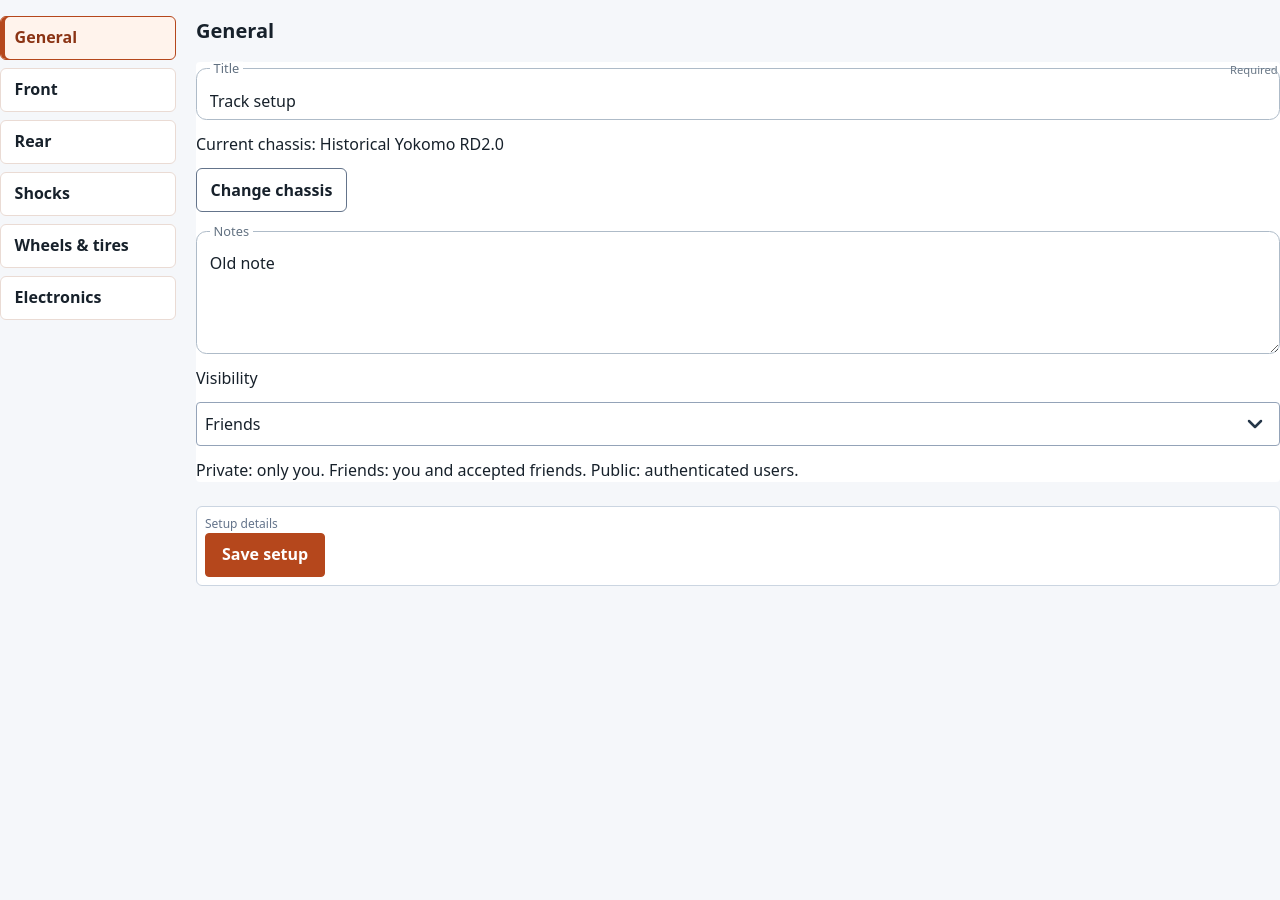
Test: validates unseen optional values, reveals the editor, and focuses after registration
This screenshot has width=1280, height=900.
Click the button "Save setup".
click(265, 555)  # box [205,533,325,577]
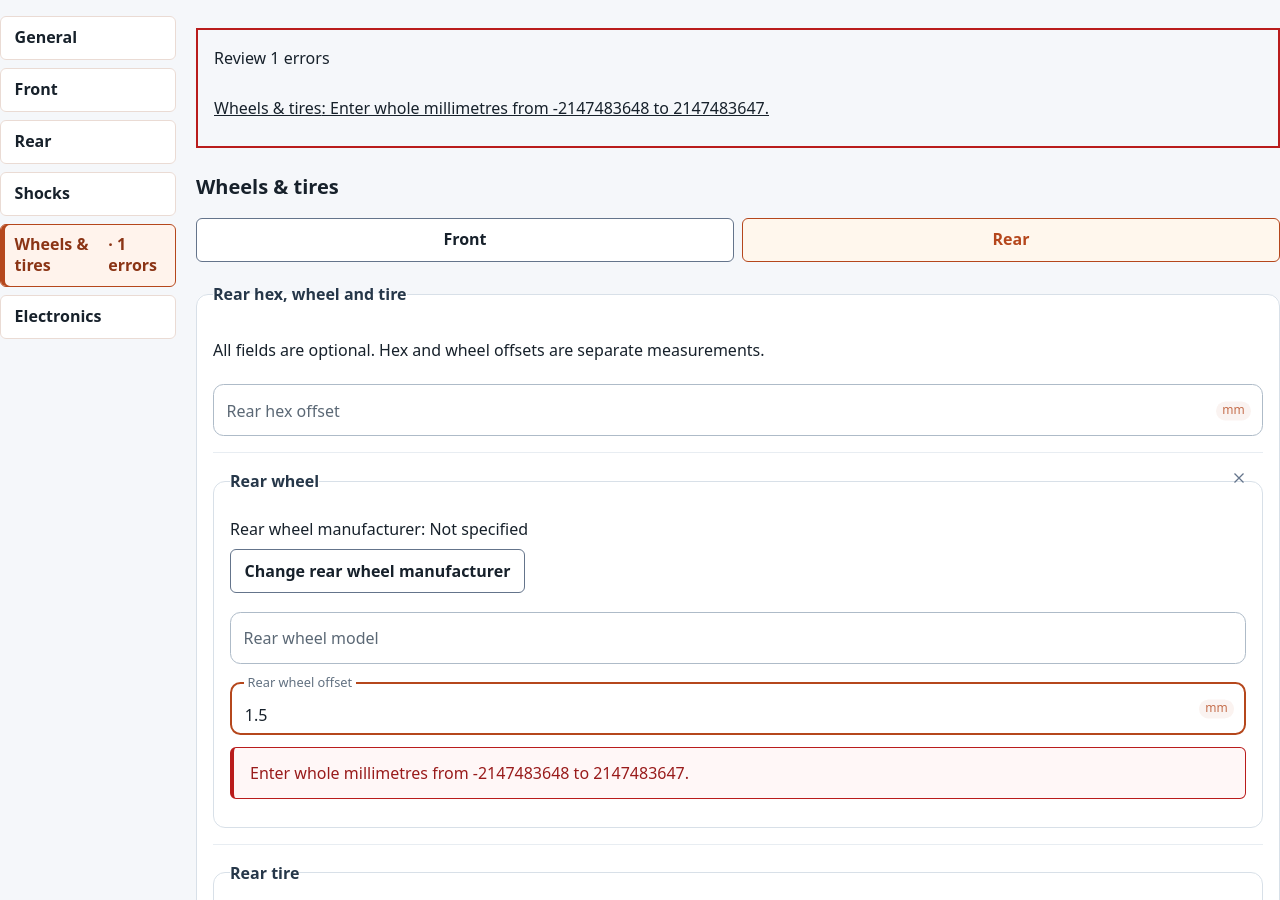
Check: the field named "Rear wheel offset (mm)" is shown, box [230,682,1246,735]
Check: the element named "Setup errors" shows "Wheels & tires", box [214,86,769,130]
